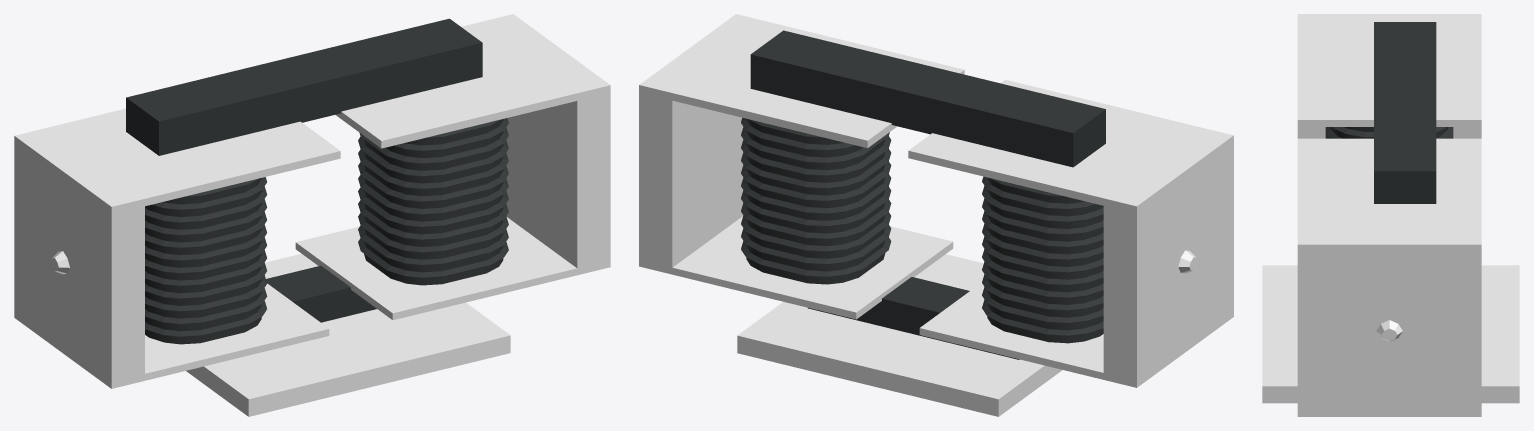
The model's file is Interior_Transformator.FBX.
The picture shows the model from 3 angles, left to right: view 1: azimuth 30°, elevation 25°; view 2: azimuth 150°, elevation 25°; view 3: azimuth 270°, elevation 25°; orthographic projection. The views are drawn at different scales.
Parts seen in each view (by area): view 1: Box002; view 2: Box002; view 3: Box002.
Part boxes in pixels (box(x1,y1,x2,y2)): Box002: box(14, 14, 610, 416); Box002: box(639, 14, 1233, 416); Box002: box(1262, 14, 1519, 416).
Size of the model in its own units: 108 by 51.76 by 49.12.
1 material, 1 textured.
